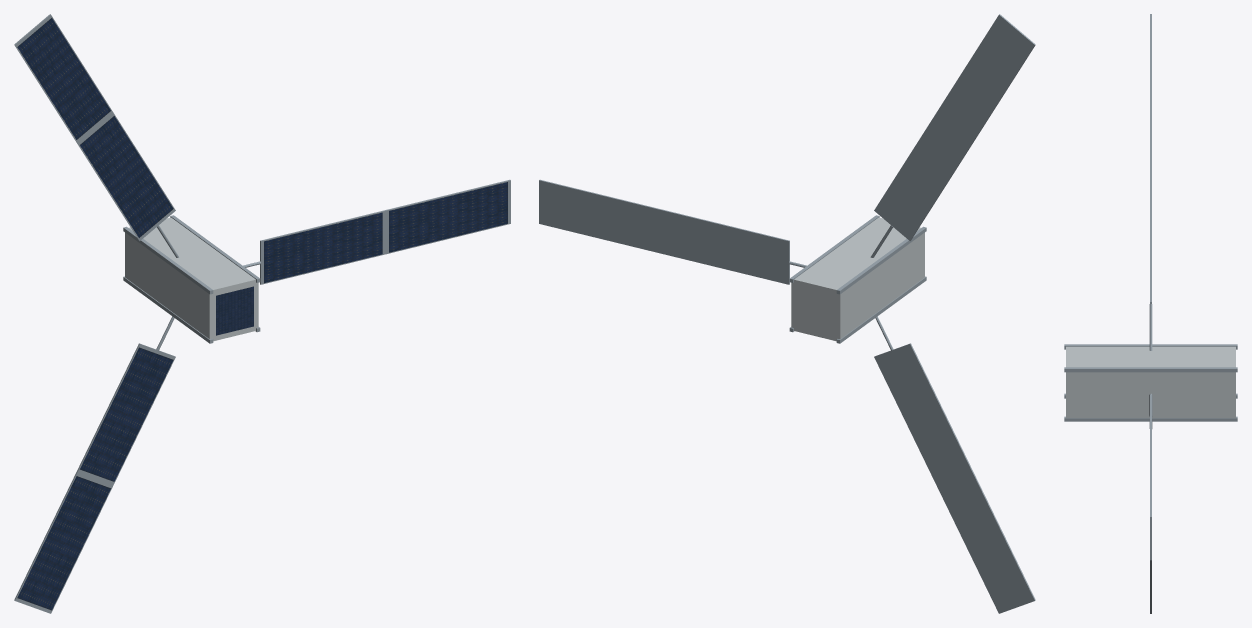
Rendered from ref-cubesat-3u-44806.glb.
3 views of the same model, side by side, from view 1: azimuth 30°, elevation 25°; view 2: azimuth 150°, elevation 25°; view 3: azimuth 270°, elevation 25° (orthographic).
Visible parts, largest first — view 1: Photovoltaic laminates (×6), Spacecraft body, Array frame (×6), Body-mounted cells; view 2: Array frame (×6), Spacecraft body; view 3: Spacecraft body, Dispenser rail (×3), Array frame (×2).
Boxes of the visible parts, box(x1,y1,x2,y2) form: Photovoltaic laminates (×6): box(17, 18, 507, 610); Spacecraft body: box(125, 217, 258, 341); Array frame (×6): box(14, 14, 510, 613); Body-mounted cells: box(216, 286, 253, 335); Array frame (×6): box(539, 14, 1035, 613); Spacecraft body: box(791, 217, 924, 341); Spacecraft body: box(1066, 346, 1235, 417); Dispenser rail (×3): box(1064, 344, 1237, 421); Array frame (×2): box(1150, 14, 1151, 303).
Size of the model in its own units: 1.01 by 1.17 by 0.306.
Materials: 3 (1 with a texture image).
